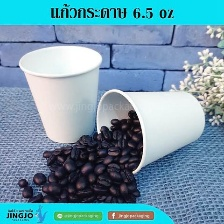paper_cup: (90, 84, 209, 177), (14, 40, 105, 148)
